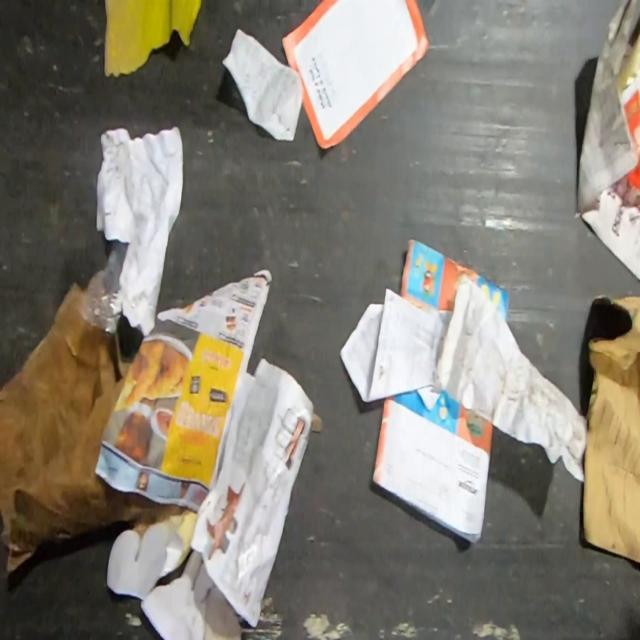cardboard: (582, 292, 640, 564), (140, 545, 242, 640), (105, 507, 198, 602), (310, 412, 324, 432)
soft_plastic: (608, 20, 639, 206), (79, 240, 128, 335)
